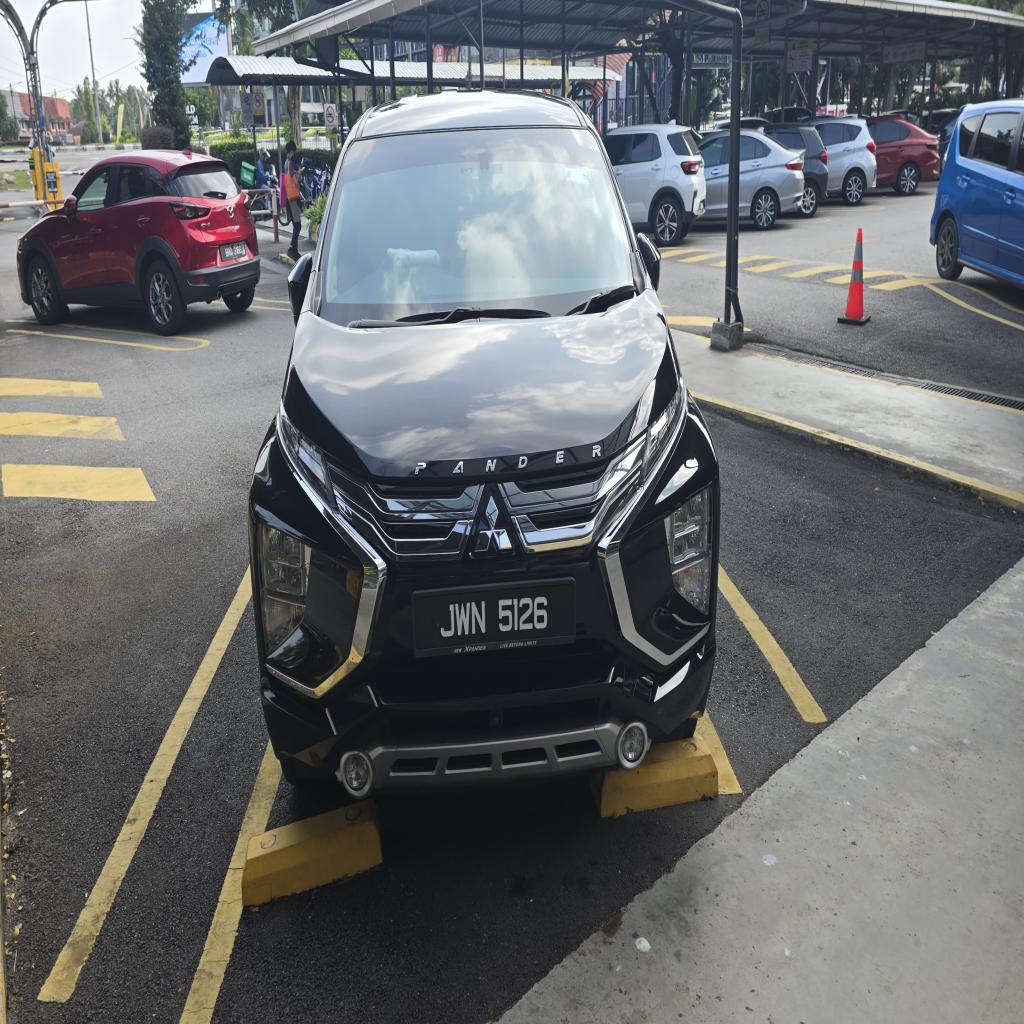car: (249, 91, 719, 798)
car plate: (412, 579, 575, 656)
